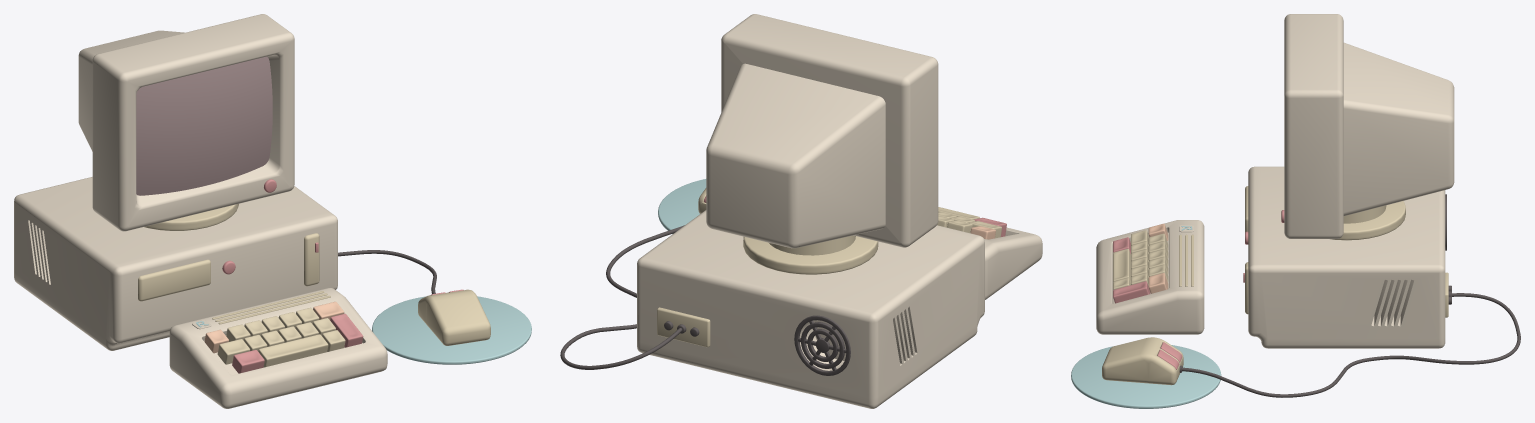
Rendered from the_iop-retro-computer-2703.glb.
The picture shows the model from 3 angles, left to right: view 1: azimuth 30°, elevation 25°; view 2: azimuth 150°, elevation 25°; view 3: azimuth 270°, elevation 25°; orthographic projection. The views are drawn at different scales.
Parts seen in each view (by area): view 1: Case (×3), Screen, glass, Pad, Cube.1, 5 1/4, Cube 1 2.1, Stand, Lines, Cube, Cube 1 2, Cube 1 1.8 (+2 smaller); view 2: Case (×2), Cube.1, Screen, Stand, Fan, Cable, Pad, Cube; view 3: Case (×3), Cube.1, Screen, Pad, Cable, Stand, Cube 1 2.1, Cube 1 2, Lines.
Part boxes in pixels (<box>): Case (×3): <box>14,177,490,408</box>; Screen: <box>92,14,294,231</box>; glass: <box>136,56,272,195</box>; Pad: <box>372,296,531,364</box>; Cube.1: <box>78,30,184,151</box>; 5 1/4: <box>138,259,210,301</box>; Cube 1 2.1: <box>258,334,328,367</box>; Stand: <box>144,204,238,230</box>; Lines: <box>212,291,330,324</box>; Cube: <box>304,233,319,286</box>; Cube 1 2: <box>330,313,363,347</box>; Cube 1 1.8: <box>232,350,264,373</box>; Case (×2): <box>637,210,1042,408</box>; Cube.1: <box>706,63,885,248</box>; Screen: <box>721,14,938,247</box>; Stand: <box>743,235,878,274</box>; Fan: <box>794,315,850,375</box>; Cable: <box>560,225,684,369</box>; Pad: <box>658,179,706,233</box>; Cube: <box>657,307,710,347</box>; Case (×3): <box>1096,166,1445,385</box>; Cube.1: <box>1343,42,1454,215</box>; Screen: <box>1284,14,1343,238</box>; Pad: <box>1071,345,1221,408</box>; Cable: <box>1181,293,1520,397</box>; Stand: <box>1330,201,1405,240</box>; Cube 1 2.1: <box>1113,248,1130,283</box>; Cube 1 2: <box>1113,281,1150,303</box>; Lines: <box>1179,234,1193,286</box>.
Bounding box in the file's own units: 0.6326 × 0.4551 × 0.7484.
